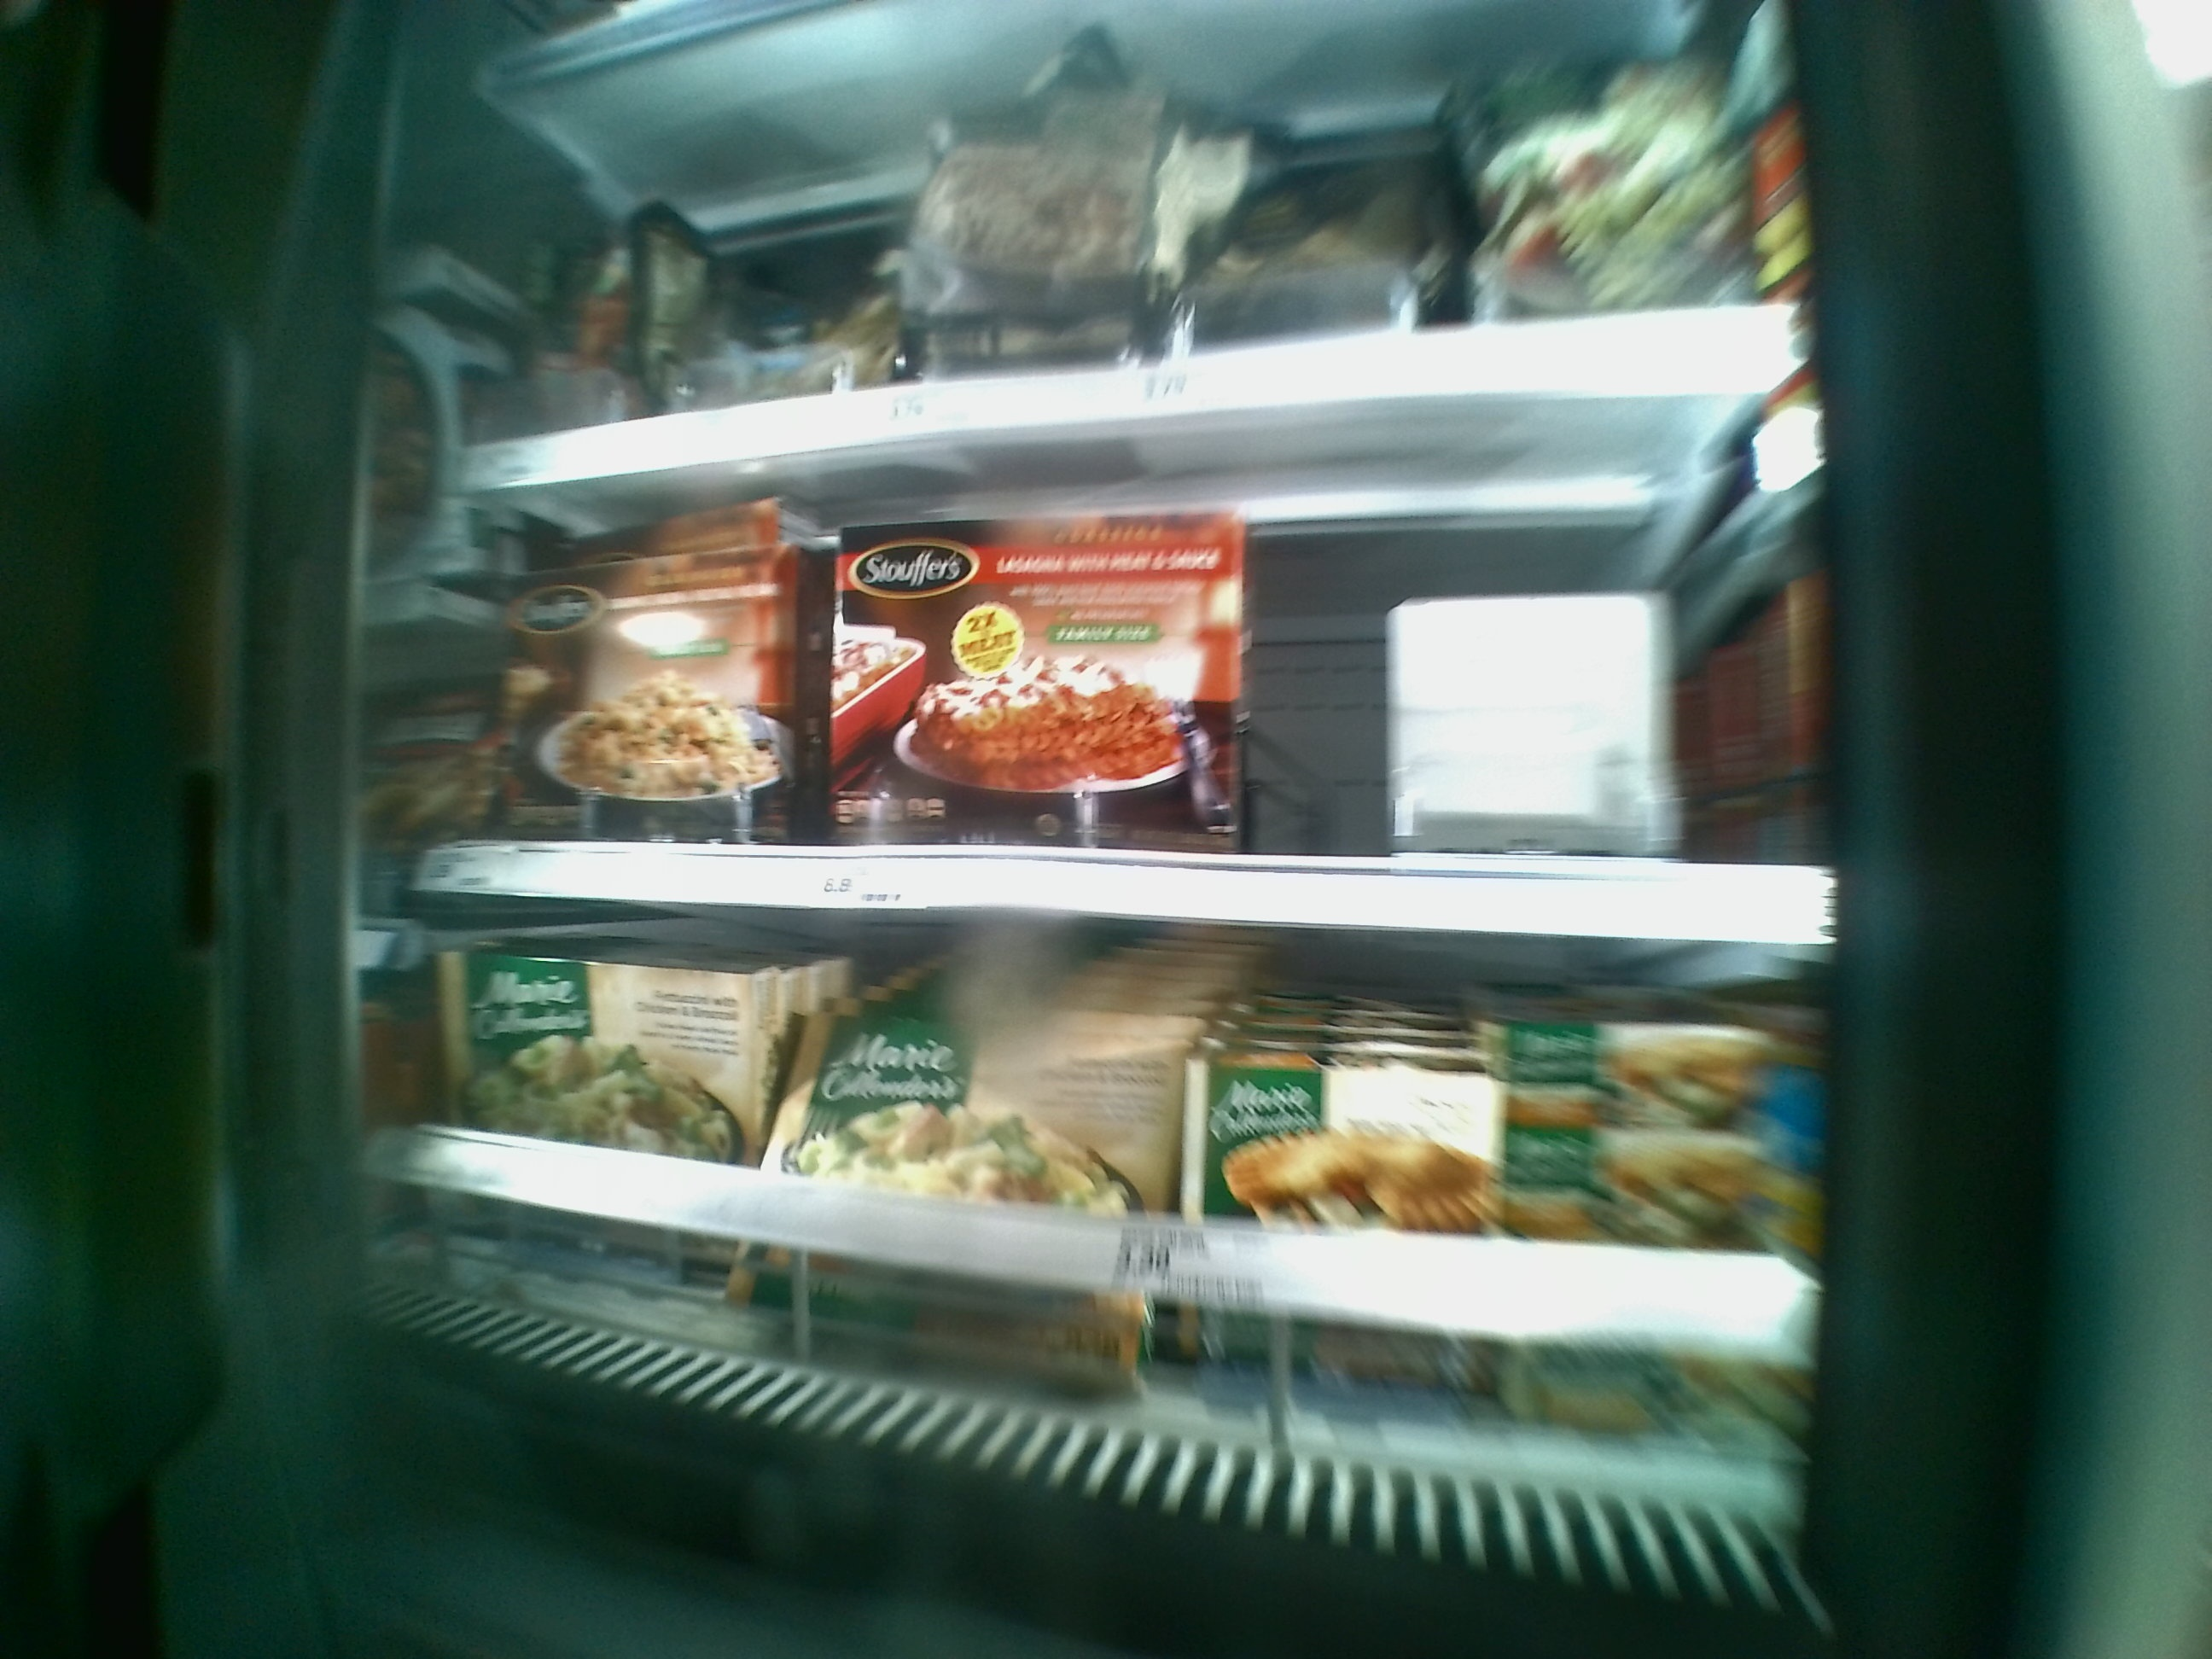shelf: (376, 908, 1813, 1425), (415, 427, 1818, 922)
